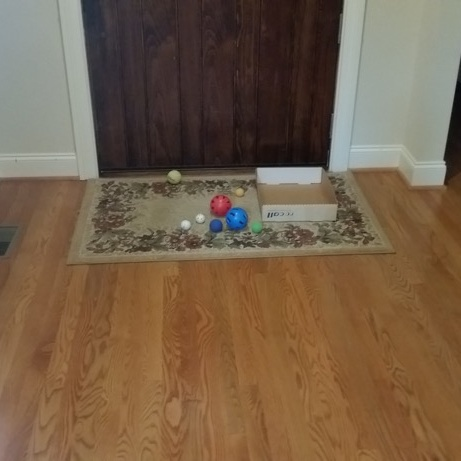blueball: (225, 205, 248, 231)
redball: (207, 192, 235, 218)
